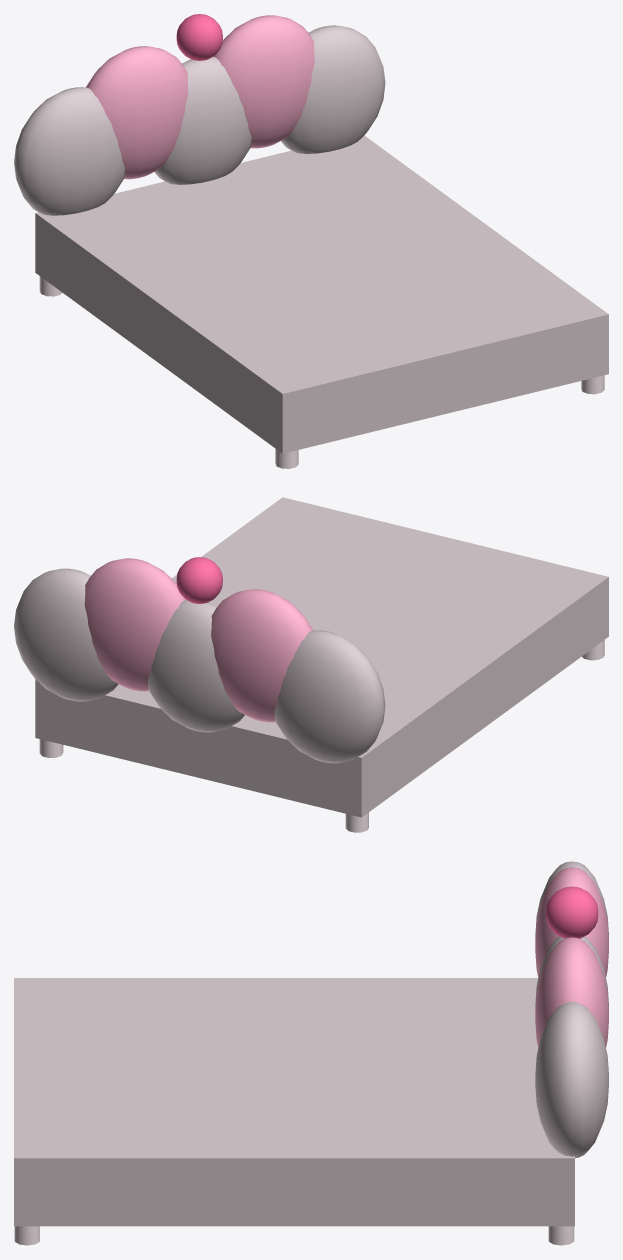
File: bed_cute_1.glb
3 views of the same model, one above another, from view 1: azimuth 30°, elevation 25°; view 2: azimuth 150°, elevation 25°; view 3: azimuth 270°, elevation 25° (orthographic). The views are drawn at different scales.
Size of the model in its own units: 1.8 by 1.1 by 2.23.
